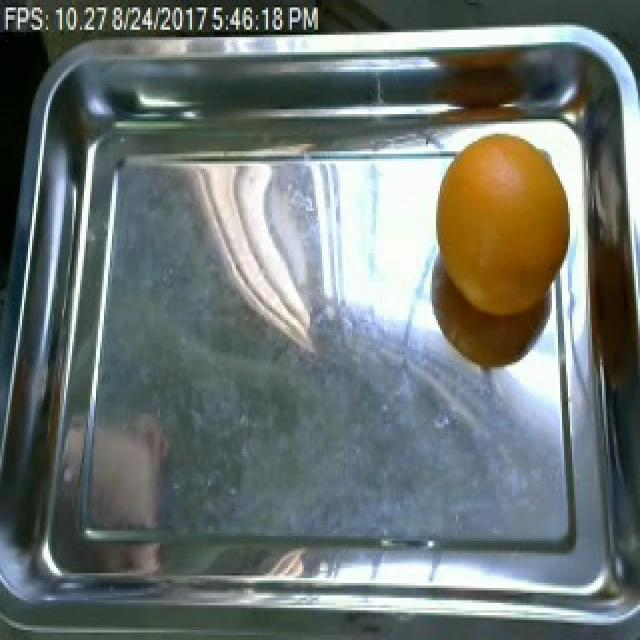Fruit: (428, 124, 574, 325), (92, 404, 176, 538)
